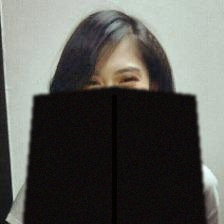Cadar_Niqab: (23, 9, 207, 224)
